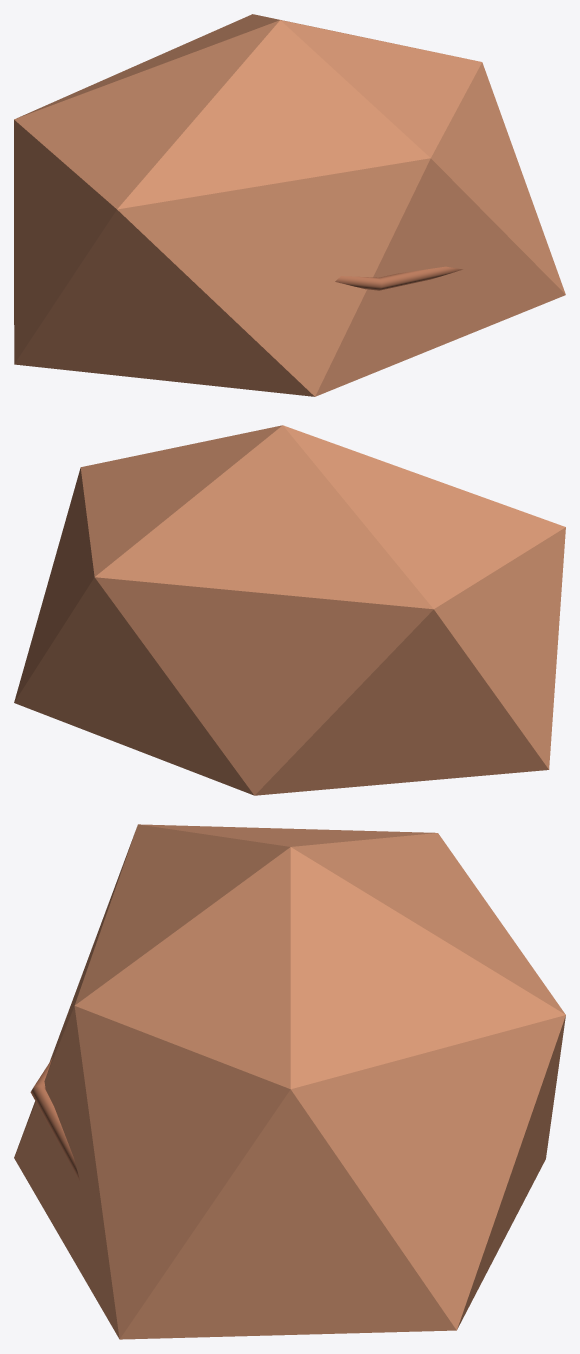
File: Rock_03.glb
3 views of the same model, one above another, from view 1: azimuth 30°, elevation 25°; view 2: azimuth 150°, elevation 25°; view 3: azimuth 270°, elevation 25° (orthographic). The views are drawn at different scales.
Visible parts, largest first — view 1: Eroded Mars boulder.002, Dark mineral vein; view 2: Eroded Mars boulder.002; view 3: Eroded Mars boulder.002, Dark mineral vein.
Part boxes in pixels (left/top/right/bottom): Eroded Mars boulder.002: left=14, top=14, right=565, bottom=396; Dark mineral vein: left=335, top=266, right=462, bottom=290; Eroded Mars boulder.002: left=14, top=425, right=565, bottom=795; Eroded Mars boulder.002: left=14, top=824, right=565, bottom=1339; Dark mineral vein: left=30, top=1057, right=80, bottom=1181.
Bounding box in the file's own units: 1.2 × 0.6602 × 0.9257.
